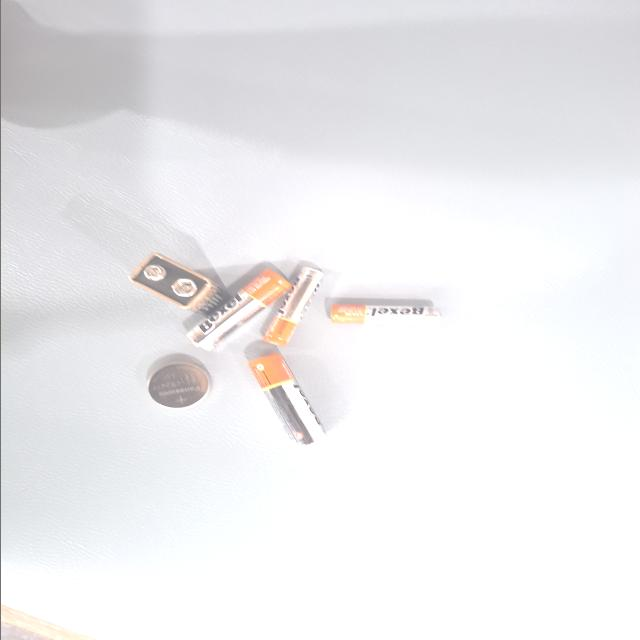9V: (125, 316, 202, 384)
AA: (143, 260, 255, 342), (259, 236, 387, 293)
AAA: (141, 238, 248, 286), (191, 151, 221, 233)
COIN: (268, 322, 334, 372)
